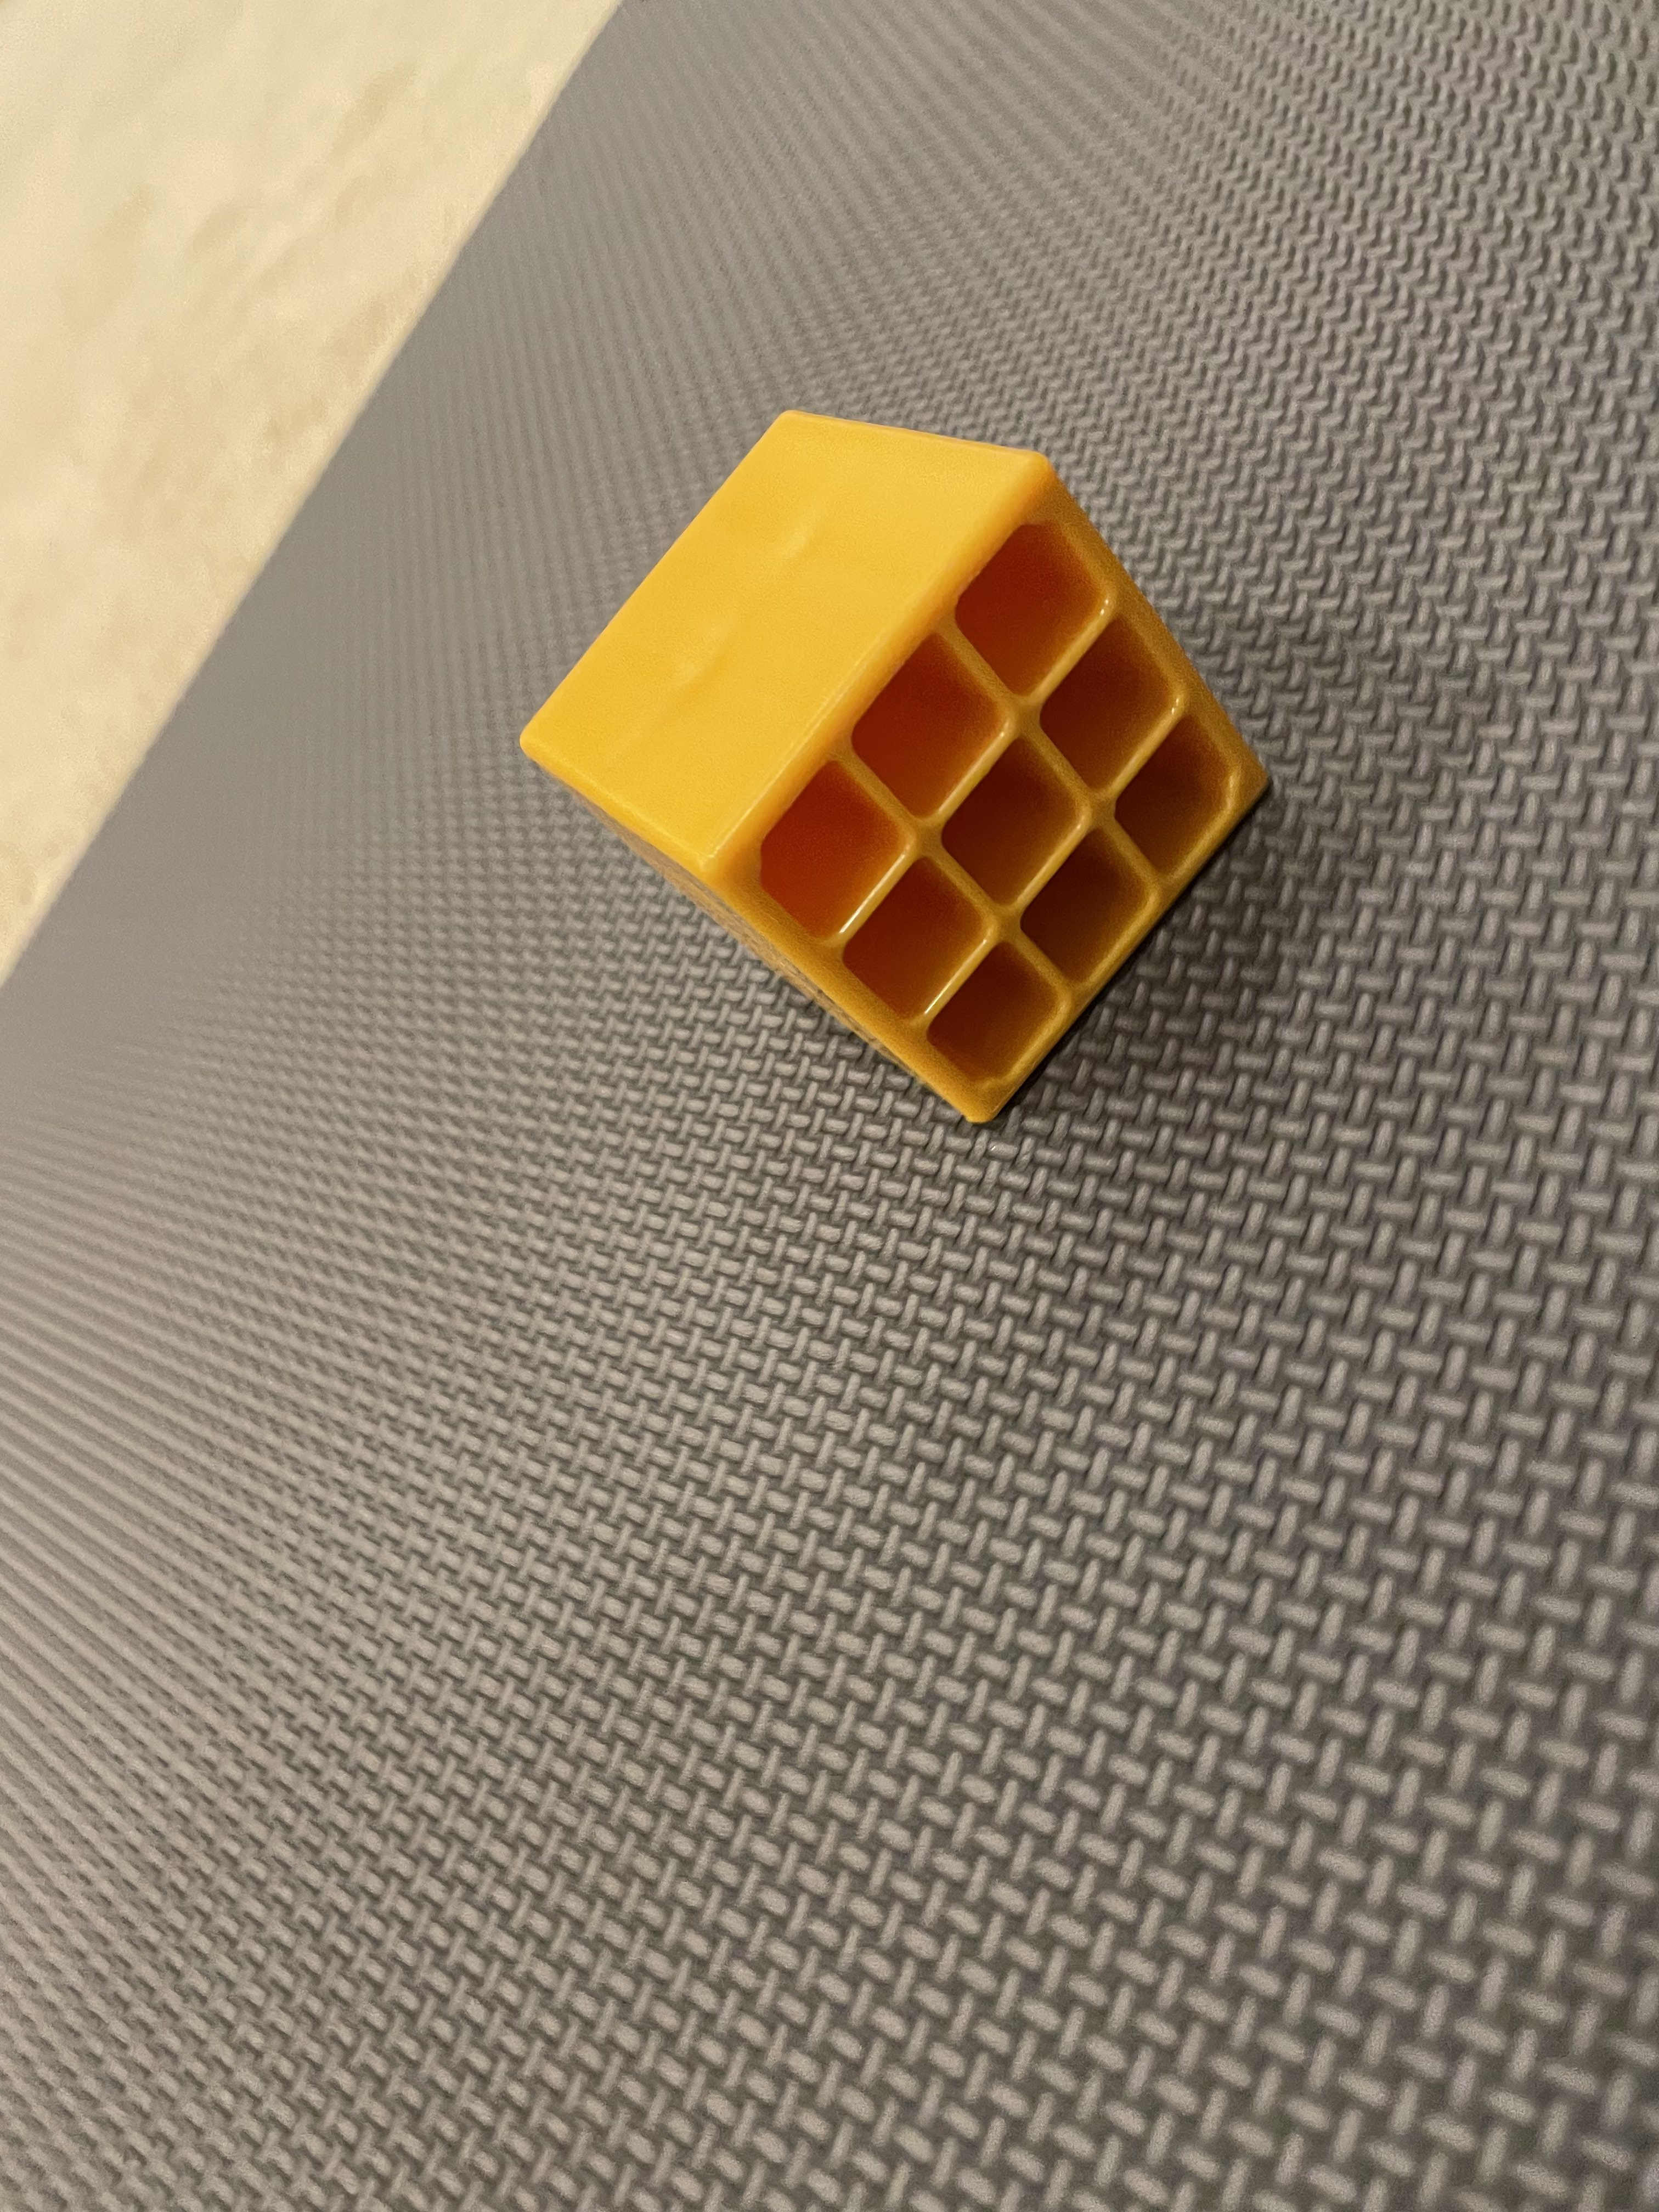cube: (451, 343, 1326, 1231)
